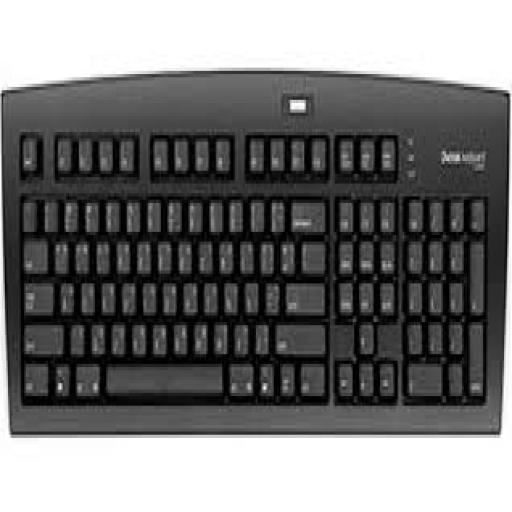KEYBOARD-2: (2, 71, 507, 431)
